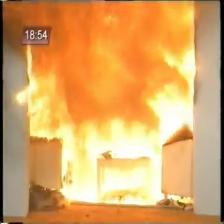fire: (62, 124, 163, 203), (160, 94, 196, 136)
